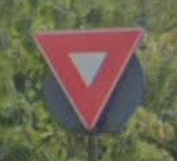cedeaza: (28, 25, 146, 137)
